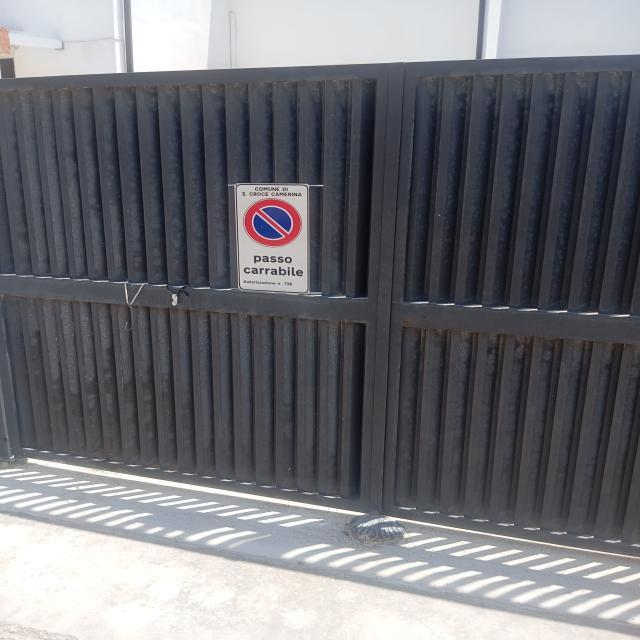forb_stopping: (242, 199, 303, 248)
